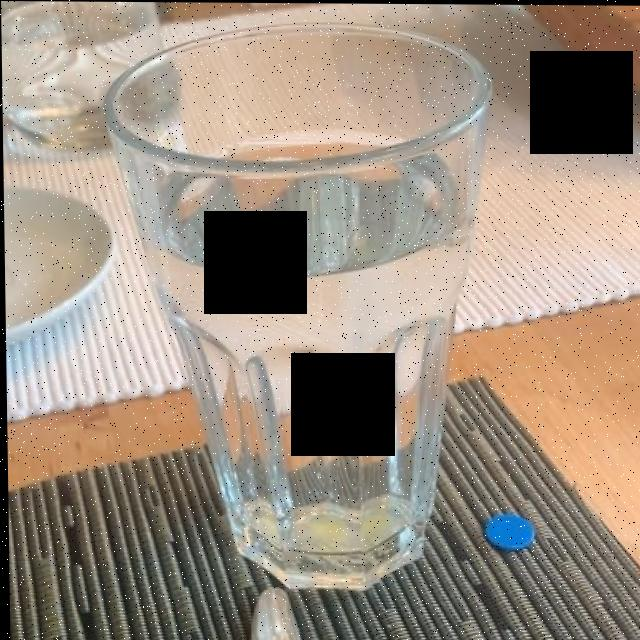water: (156, 141, 459, 565)
